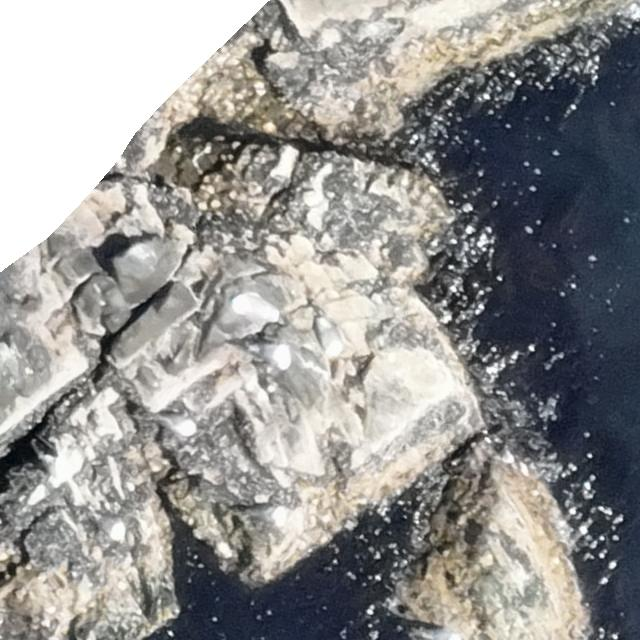umineko: (232, 293, 280, 324), (247, 341, 290, 371), (154, 410, 196, 436), (318, 314, 342, 356)
